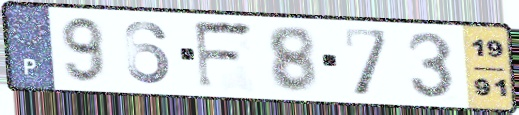3: (406, 29, 460, 101)
6: (122, 19, 174, 87)
7: (343, 26, 390, 99)
8: (264, 23, 321, 96)
9: (57, 14, 109, 85)
F: (191, 19, 258, 93)
